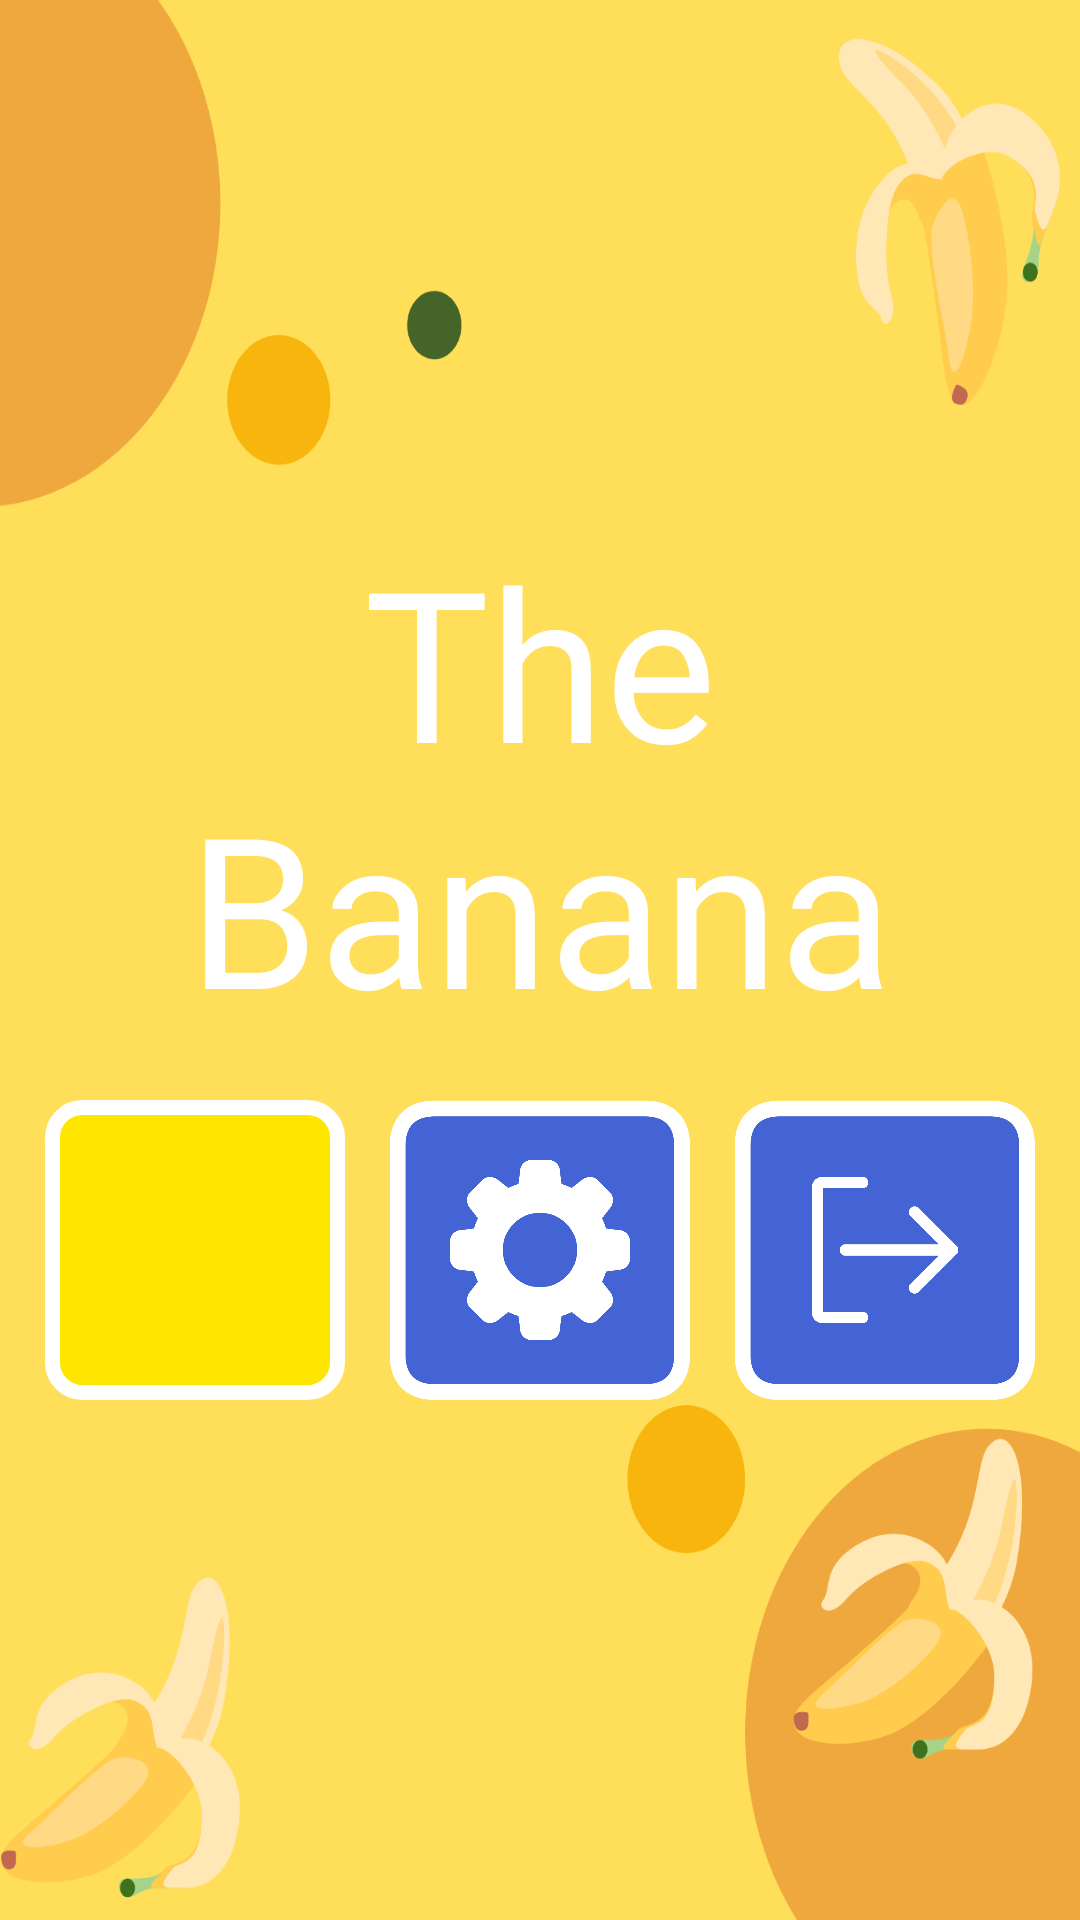

Named icons in this screenshot (1080w x 1920h) and their bounding boxes, region(x1, y1, x2, y2):
quit: region(735, 1100, 1035, 1400)
setting: region(390, 1100, 690, 1400)
